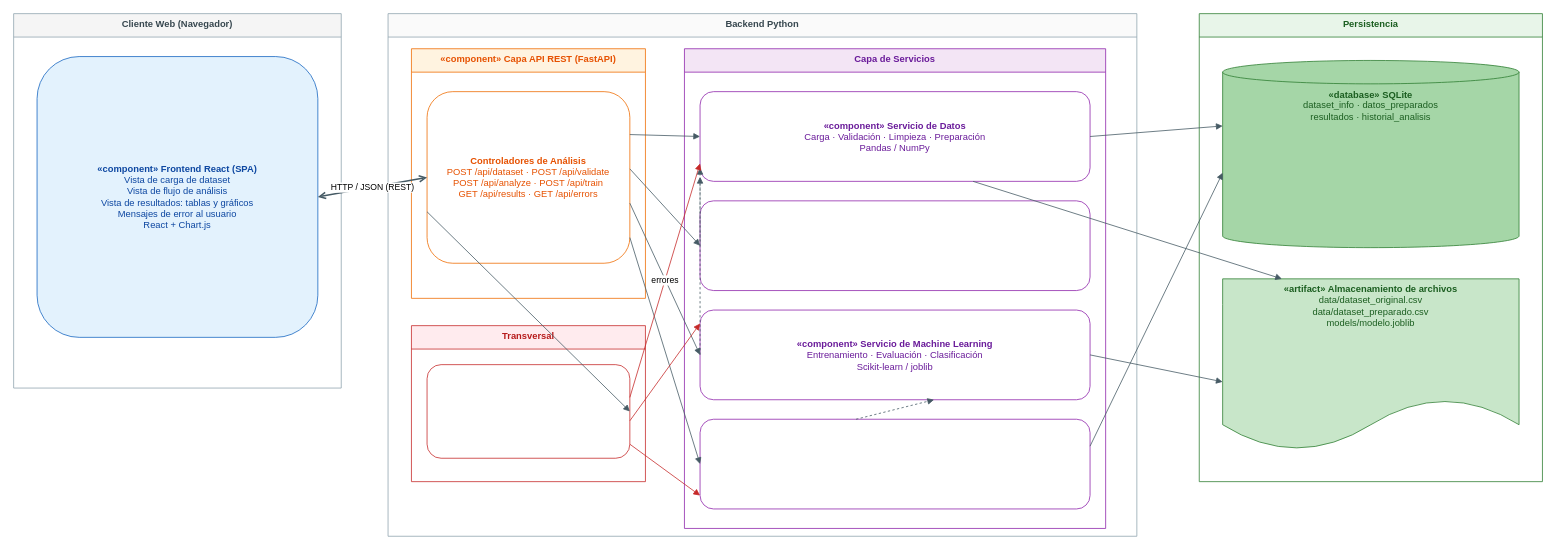
The diagram is 1556 pixels wide and 550 high, and some of its shapes have lost their labels. Each missing label, with the centre of its shape:
"«component» Manejador de Errores Mensajes comprensibles al usuario" goes at (x=528, y=411).
"«component» Servicio de Análisis Exploratorio EDA · Selección de variables" goes at (x=894, y=245).
"«component» Servicio de Resultados Consultas · Tablas · Agregaciones" goes at (x=894, y=463).
